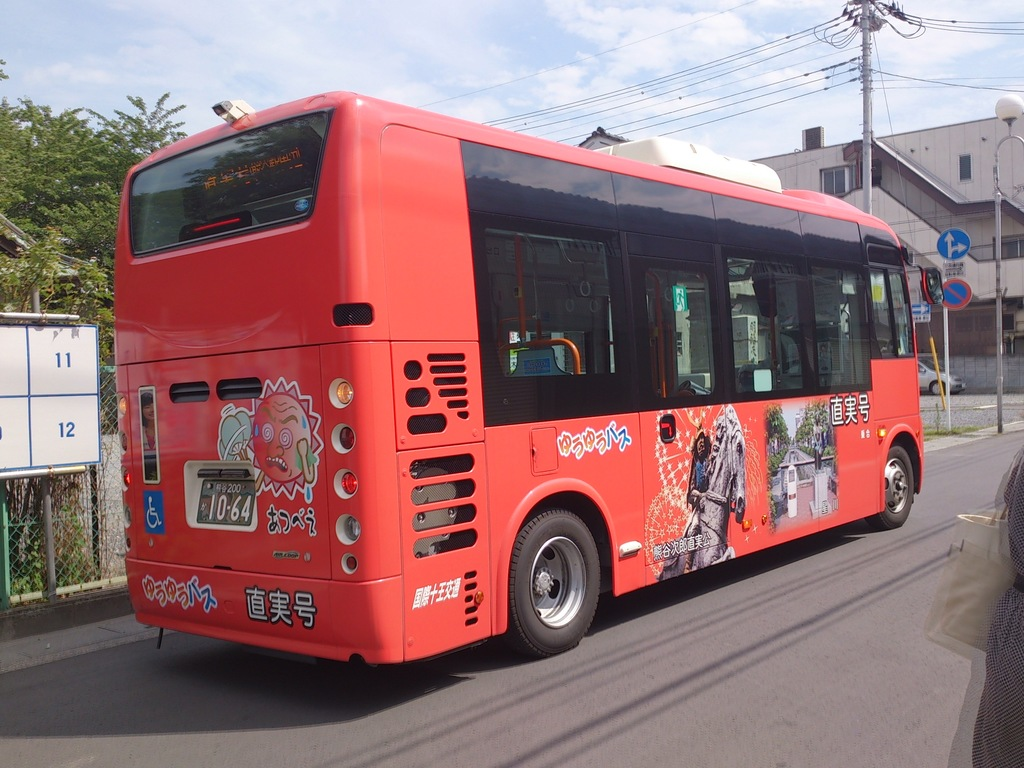Car: (919, 358, 967, 394)
